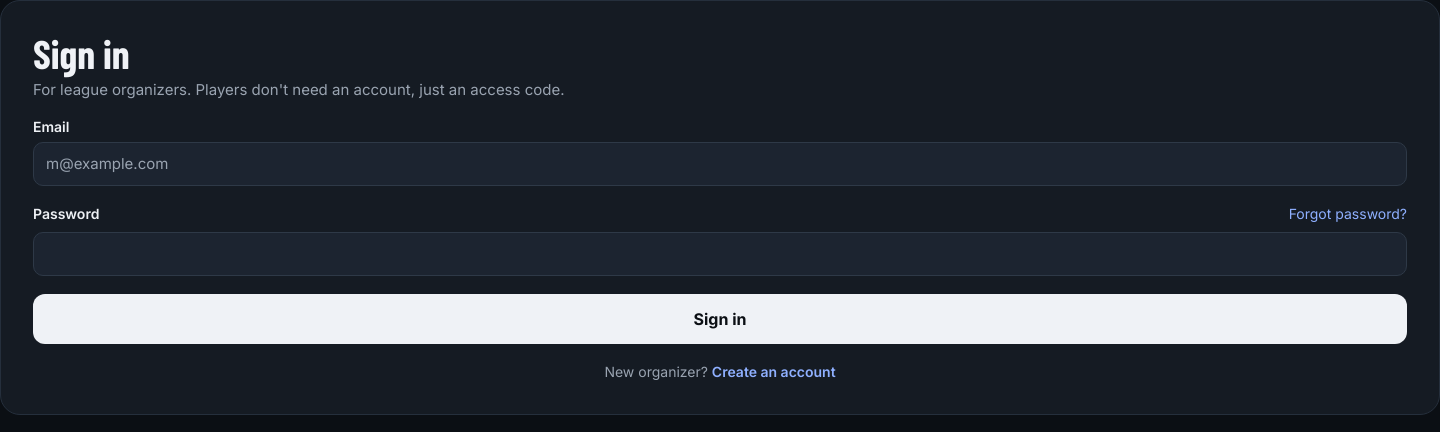
Test: LoginForm › shows loading state while submitting
The width and height of the screenshot is (1440, 432).
Type "test@example.com" into the field labelled "Email" at {"x": 720, "y": 164}, box [33, 142, 1407, 186]
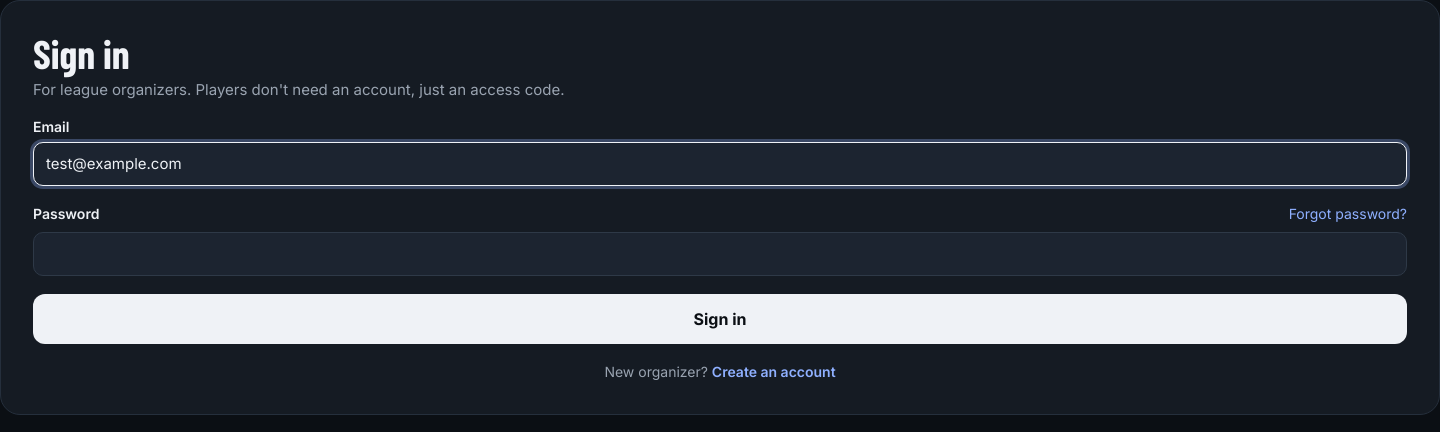
Type "password123" into the password field labelled "Password" at {"x": 720, "y": 254}, box [33, 232, 1407, 276]
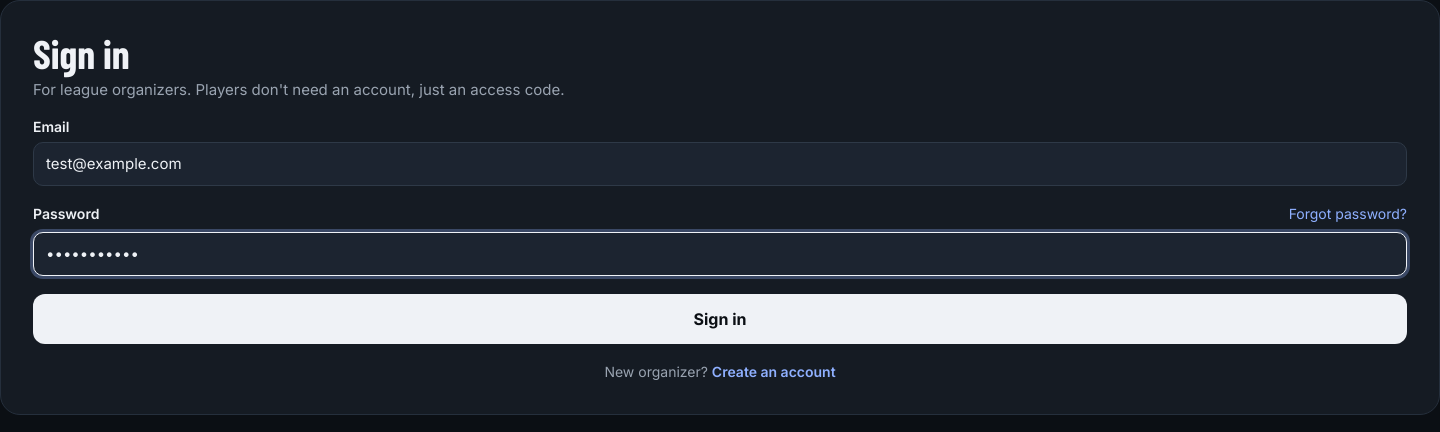
Click the button "Sign in" at {"x": 720, "y": 318}, box [33, 294, 1407, 344]
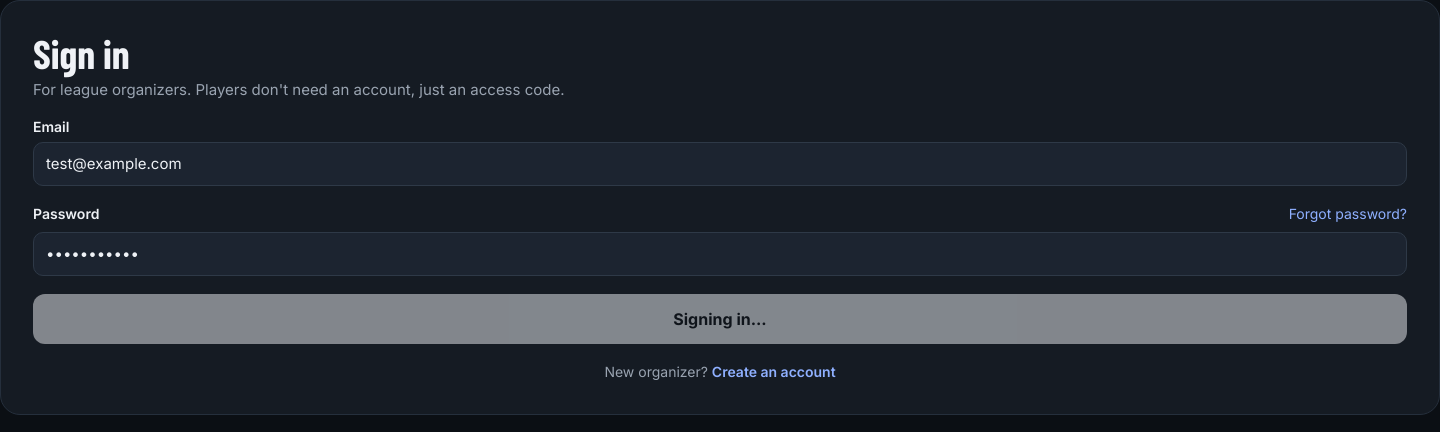
Now the button "Signing in..." is disabled, box [33, 294, 1407, 344]
